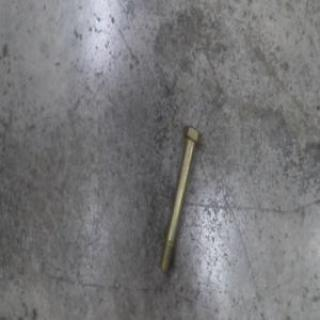Bolttrack_idkeyframe: (158, 122, 201, 274)
